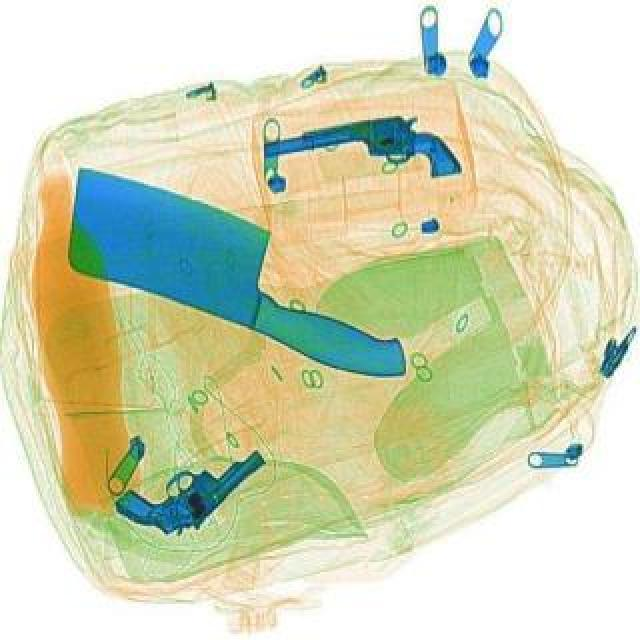gun: (258, 112, 460, 184), (112, 448, 274, 534)
knife: (36, 152, 444, 388)
